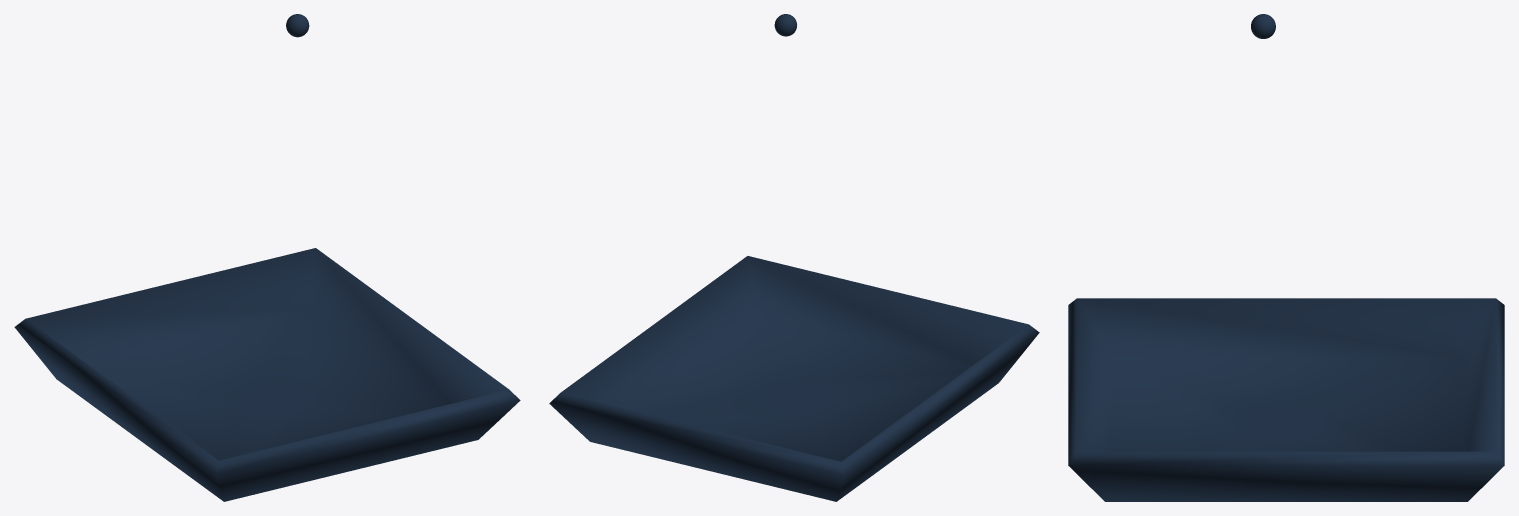
The model's file is cocina.obj.
3 renders of one model, left to right at view 1: azimuth 30°, elevation 25°; view 2: azimuth 150°, elevation 25°; view 3: azimuth 270°, elevation 25°, orthographic. The views are drawn at different scales.
Parts seen in each view (by area): view 1: Plane.012_Plane.006; view 2: Plane.012_Plane.006; view 3: Plane.012_Plane.006.
Boxes of the visible parts, x1,y1,x2,y2 form: Plane.012_Plane.006: (14, 14, 520, 501); Plane.012_Plane.006: (549, 14, 1039, 501); Plane.012_Plane.006: (1068, 14, 1504, 501).
Bounding box in the file's own units: 1.11 × 1.39 × 1.27.
